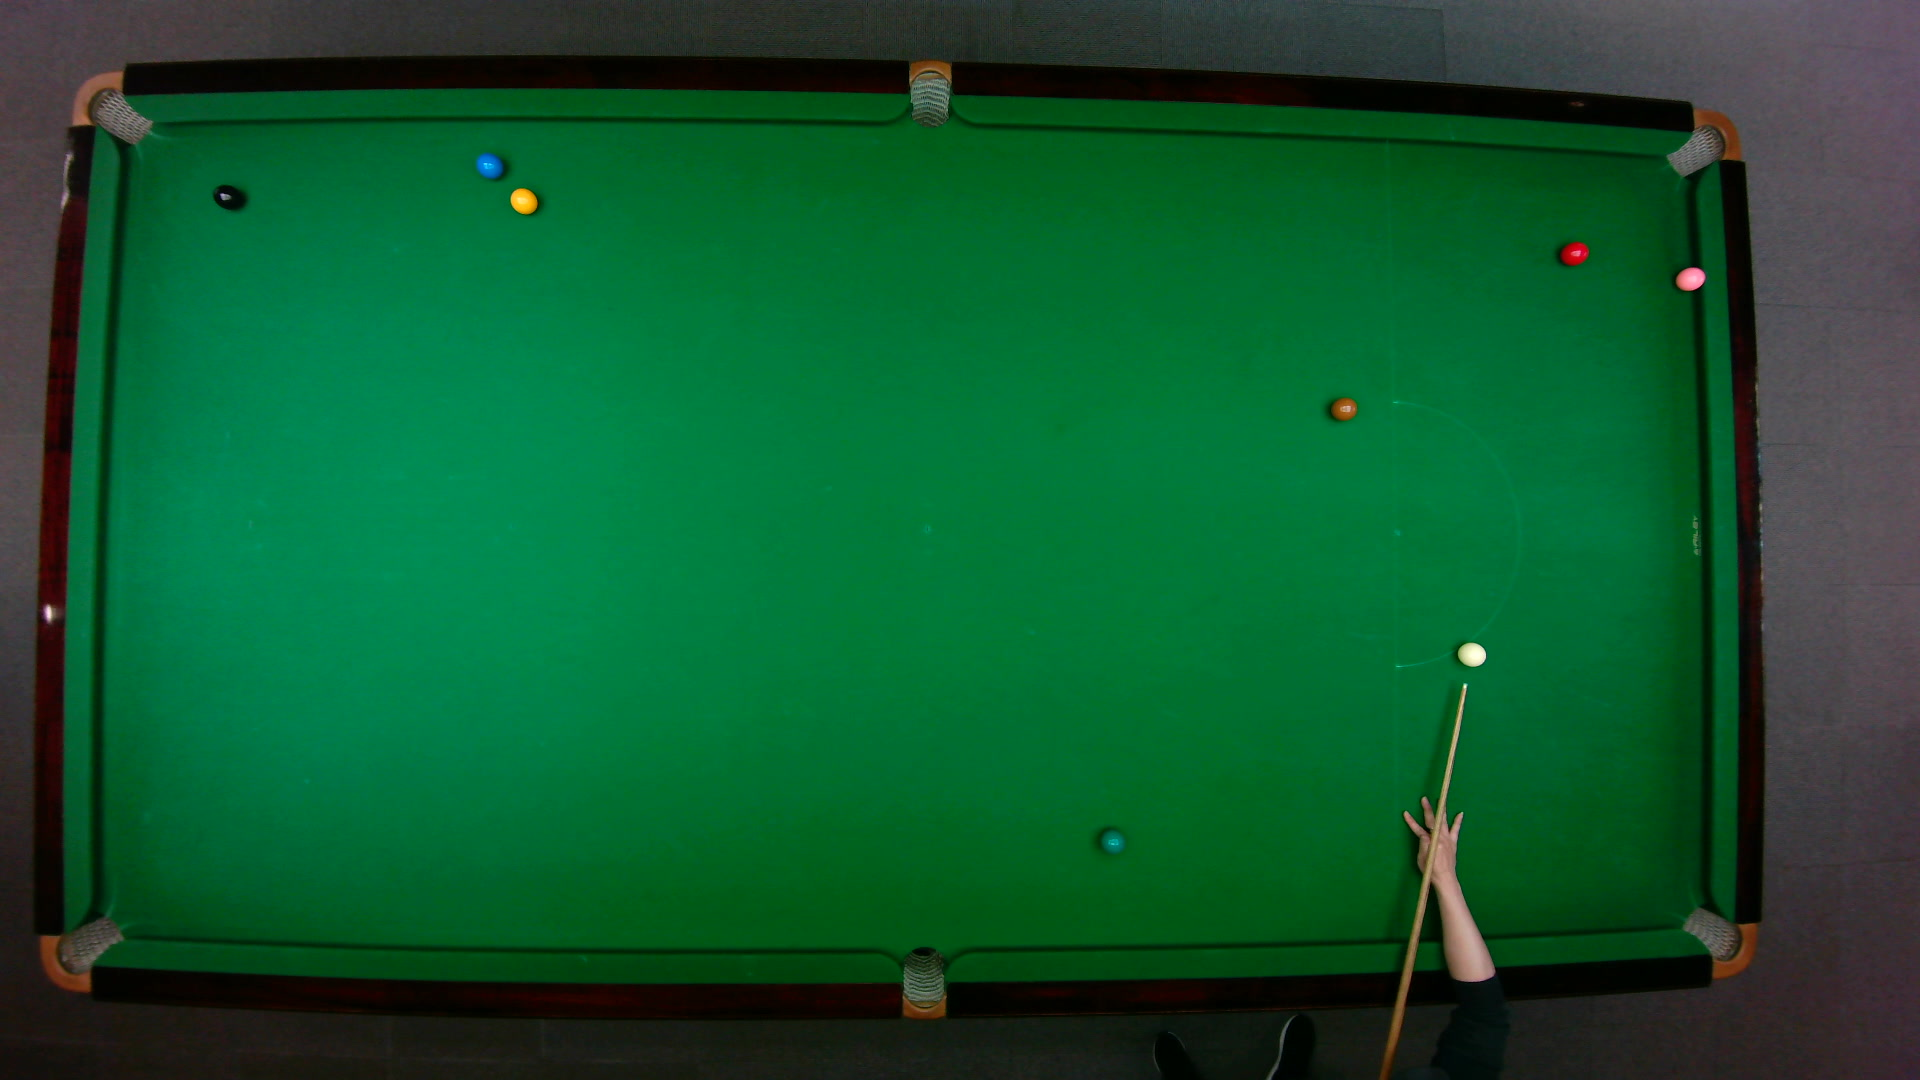bag: (37, 914, 124, 992), (69, 69, 152, 145), (1677, 905, 1756, 978), (1663, 107, 1741, 177), (901, 944, 944, 1021), (909, 57, 949, 128)
black: (212, 183, 243, 210)
blue: (473, 152, 504, 179)
brown: (1328, 396, 1358, 421)
cue: (1377, 676, 1469, 1080)
green: (1097, 825, 1126, 855)
pink: (1673, 264, 1706, 291)
red: (1557, 239, 1589, 266)
white: (1455, 640, 1487, 667)
yellow: (506, 185, 539, 215)
zone: (1390, 398, 1520, 666)
